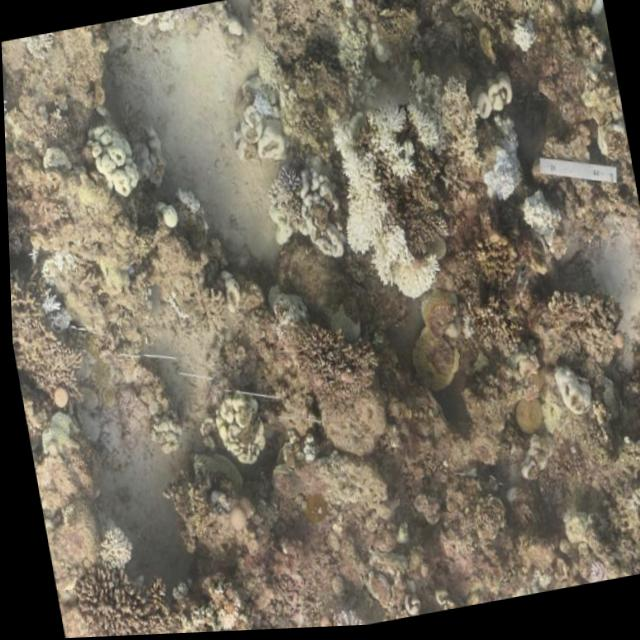Bleached Coral: (326, 92, 398, 302), (371, 232, 445, 329), (161, 559, 250, 635), (398, 76, 463, 159), (366, 80, 415, 189), (472, 133, 530, 213), (512, 183, 568, 261), (244, 44, 294, 129), (505, 8, 548, 64), (87, 520, 131, 574), (36, 281, 70, 346), (2, 61, 19, 134), (272, 165, 303, 201), (640, 521, 640, 577)
